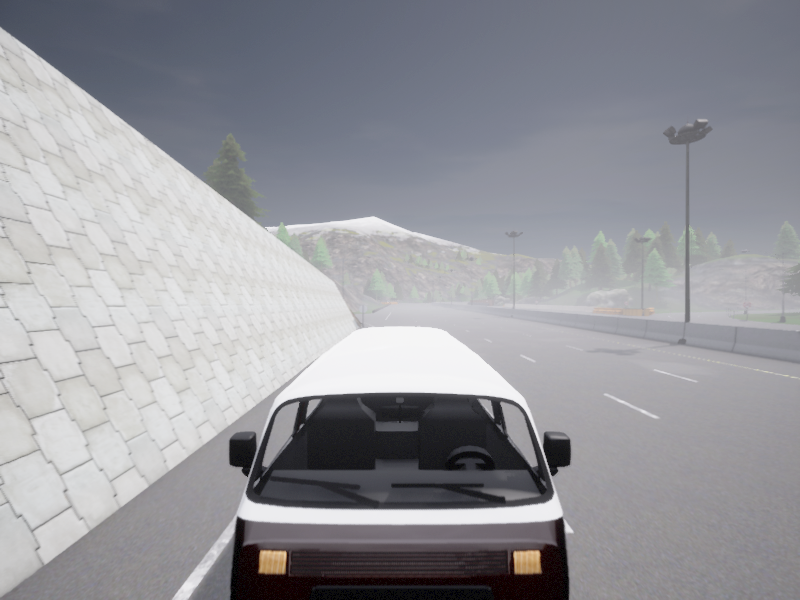vehicle: (229, 327, 570, 599)
